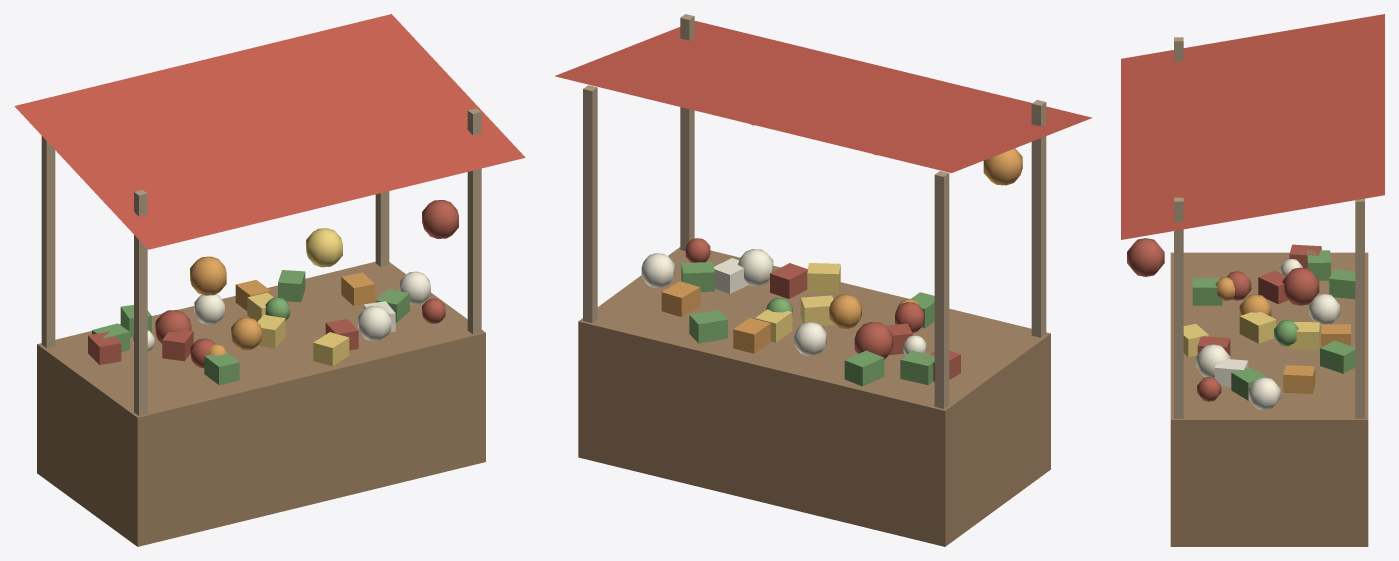
The model's file is SM_SouqStall.fbx.
The picture shows the model from 3 angles, left to right: view 1: azimuth 30°, elevation 25°; view 2: azimuth 150°, elevation 25°; view 3: azimuth 270°, elevation 25°; orthographic projection. The views are drawn at different scales.
Visible parts, largest first — view 1: SM_SouqStall; view 2: SM_SouqStall; view 3: SM_SouqStall.
Part boxes in pixels (left/top/right/bottom): SM_SouqStall: left=14, top=14, right=525, bottom=546; SM_SouqStall: left=554, top=14, right=1092, bottom=546; SM_SouqStall: left=1121, top=14, right=1384, bottom=546.
Size of the model in its own units: 260 by 240 by 160.
